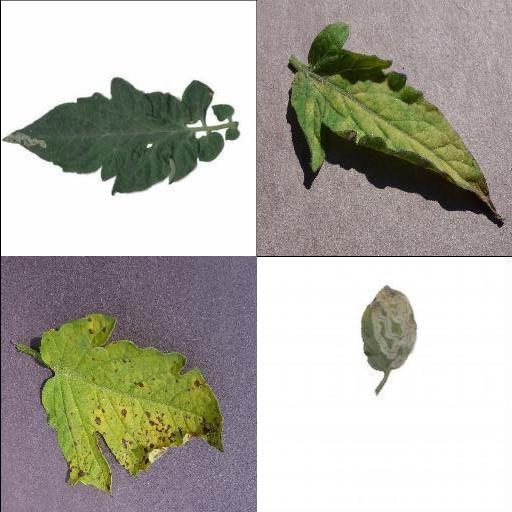Leaf Miner: (0, 73, 199, 195), (362, 285, 419, 373)
Leaf Mold: (288, 24, 504, 224)
Septoria: (37, 314, 225, 498)
